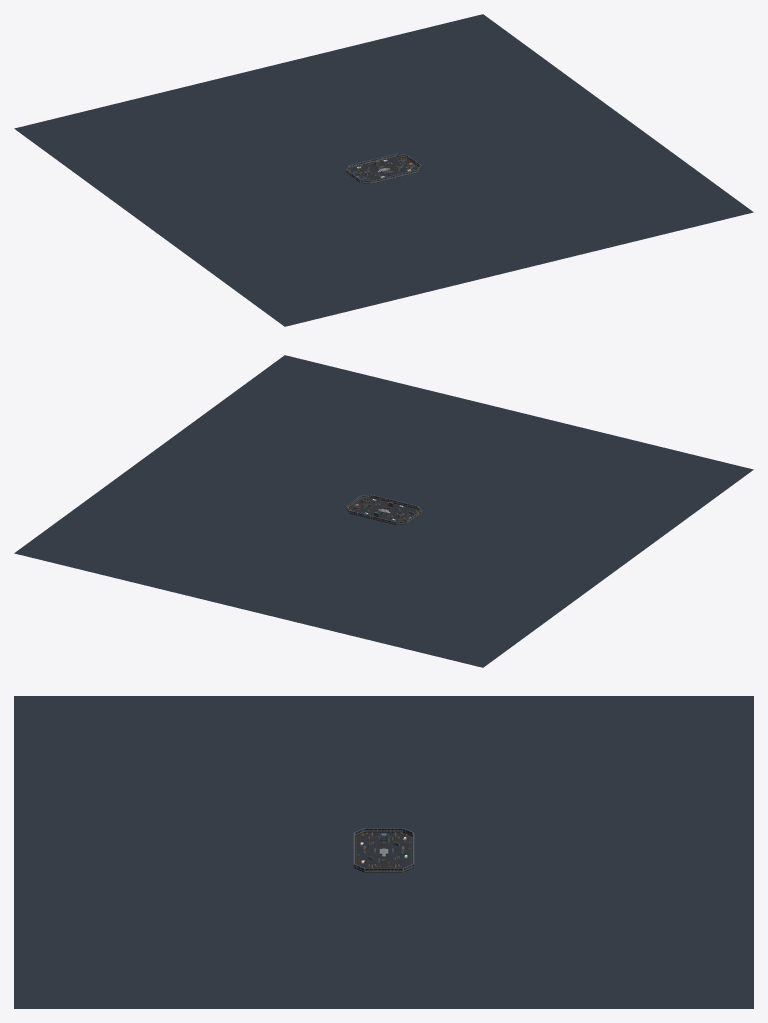
Rendered from arena_play.glb.
3 renders of one model, top to bottom at view 1: azimuth 30°, elevation 25°; view 2: azimuth 150°, elevation 25°; view 3: azimuth 270°, elevation 25°, orthographic. The views are drawn at different scales.
Visible parts, largest first — view 1: arena; view 2: arena; view 3: arena.
Part boxes in pixels (x1,y1,x2,y2): arena: (14, 14, 753, 326); arena: (14, 355, 753, 667); arena: (14, 696, 753, 1008).
Size of the model in its own units: 700 by 5.4 by 700.
Materials: 43 (17 with a texture image).
